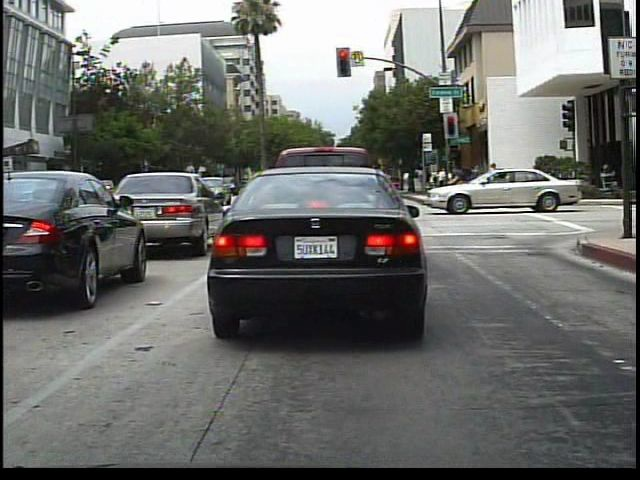person: (448, 159, 477, 209), (466, 158, 485, 199), (487, 158, 504, 197)
